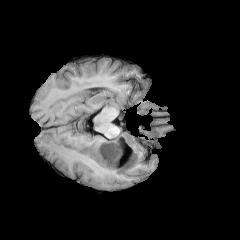glioma: (92, 135, 140, 174)
